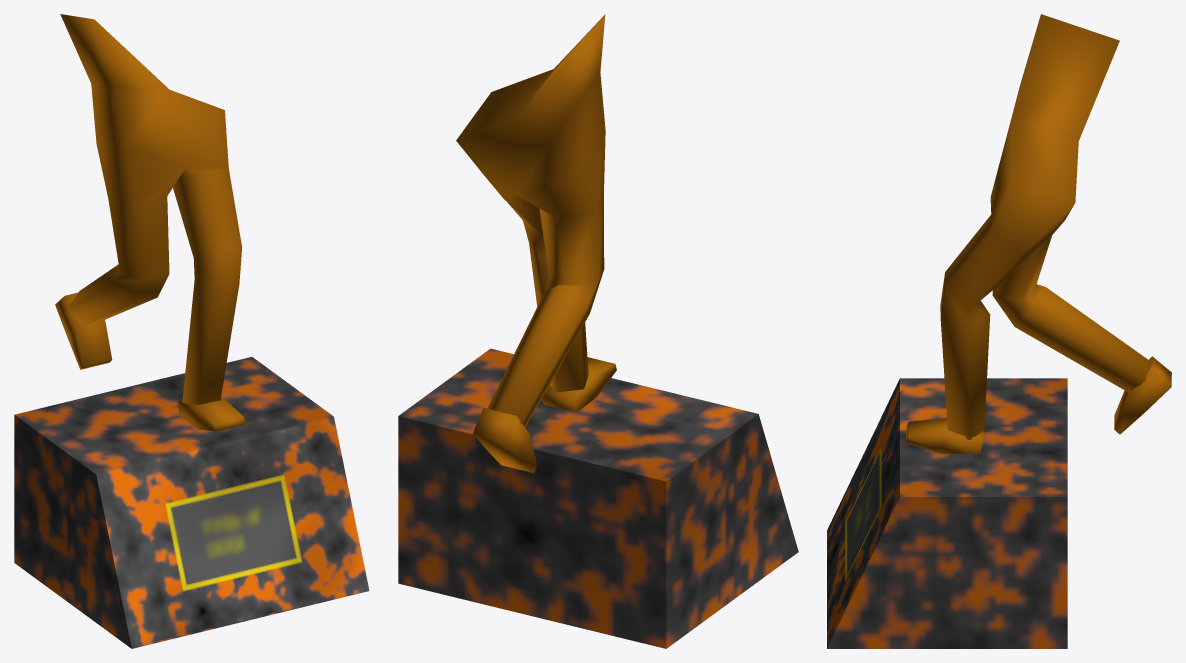
The model's file is Statue-Bottom-1.fbx.
The picture shows the model from 3 angles, left to right: view 1: azimuth 30°, elevation 25°; view 2: azimuth 150°, elevation 25°; view 3: azimuth 270°, elevation 25°; orthographic projection. The views are drawn at different scales.
Visible parts, largest first — view 1: Statue-Bottom; view 2: Statue-Bottom; view 3: Statue-Bottom.
Boxes of the visible parts, box(x1,y1,x2,y2) form: Statue-Bottom: box(14, 14, 369, 648); Statue-Bottom: box(398, 14, 798, 648); Statue-Bottom: box(827, 14, 1171, 648).
Bounding box in the file's own units: 186 × 402 × 228.
